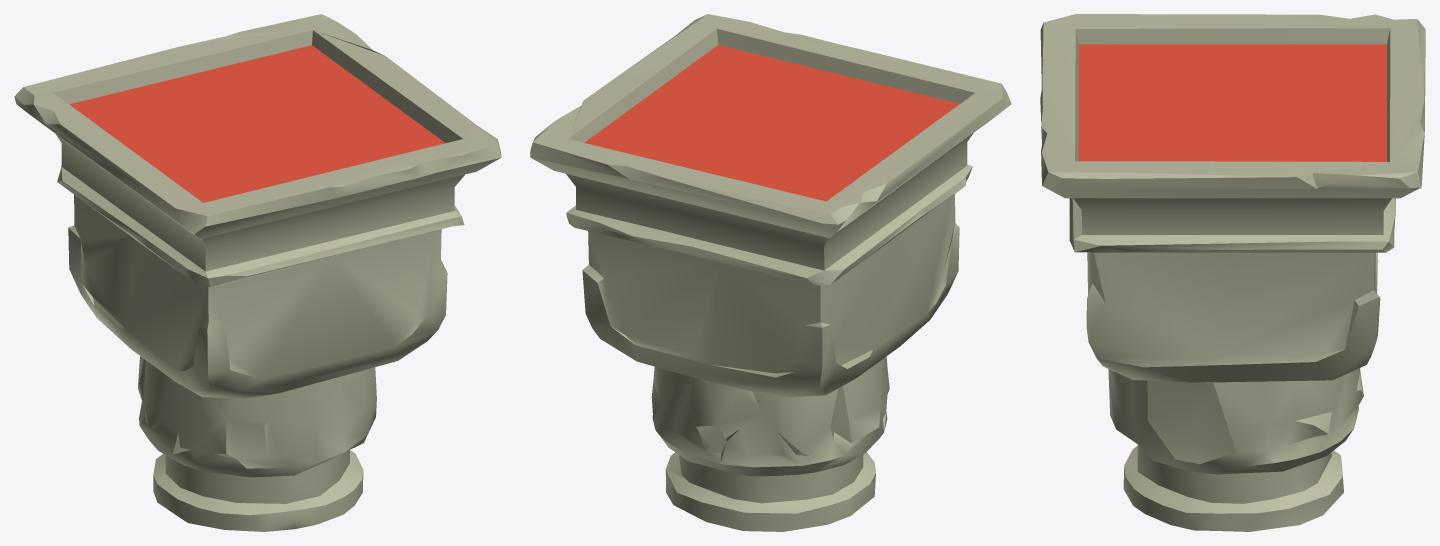
File: SM_pot001.fbx
The picture shows the model from 3 angles, left to right: view 1: azimuth 30°, elevation 25°; view 2: azimuth 150°, elevation 25°; view 3: azimuth 270°, elevation 25°; orthographic projection. The views are drawn at different scales.
Visible parts, largest first — view 1: SM_pot001; view 2: SM_pot001; view 3: SM_pot001.
Part boxes in pixels (<box>): SM_pot001: <box>14,14,501,531</box>; SM_pot001: <box>530,14,1011,531</box>; SM_pot001: <box>1040,14,1425,531</box>.
Bounding box in the file's own units: 90.46 × 102 × 90.62.
